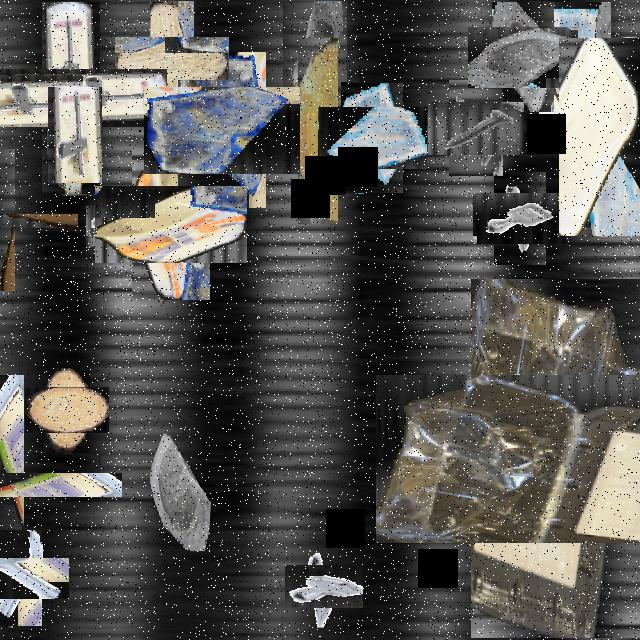glass: (161, 69, 283, 191), (137, 418, 211, 549), (539, 2, 611, 130), (583, 426, 640, 562), (329, 96, 415, 182), (480, 14, 566, 100), (283, 1, 347, 116)
metal: (438, 90, 514, 166), (484, 182, 556, 255), (48, 87, 102, 183), (0, 543, 55, 612), (294, 556, 354, 617), (94, 198, 152, 257)
plastic: (423, 326, 640, 590), (559, 38, 640, 236), (8, 36, 134, 160), (114, 166, 228, 282), (0, 424, 73, 546)
wood: (298, 39, 338, 224), (132, 19, 212, 98), (34, 378, 100, 443), (0, 181, 46, 259)
